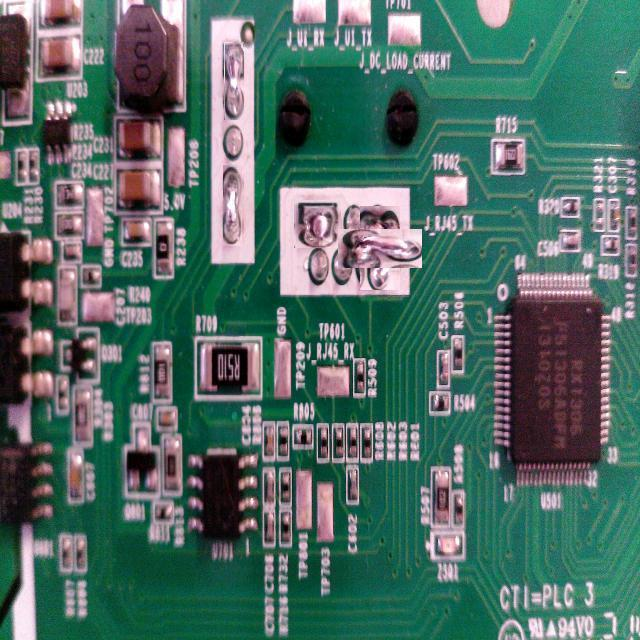Short_circuit: (349, 218, 411, 280), (293, 200, 341, 248), (224, 165, 244, 246), (224, 42, 244, 120)
